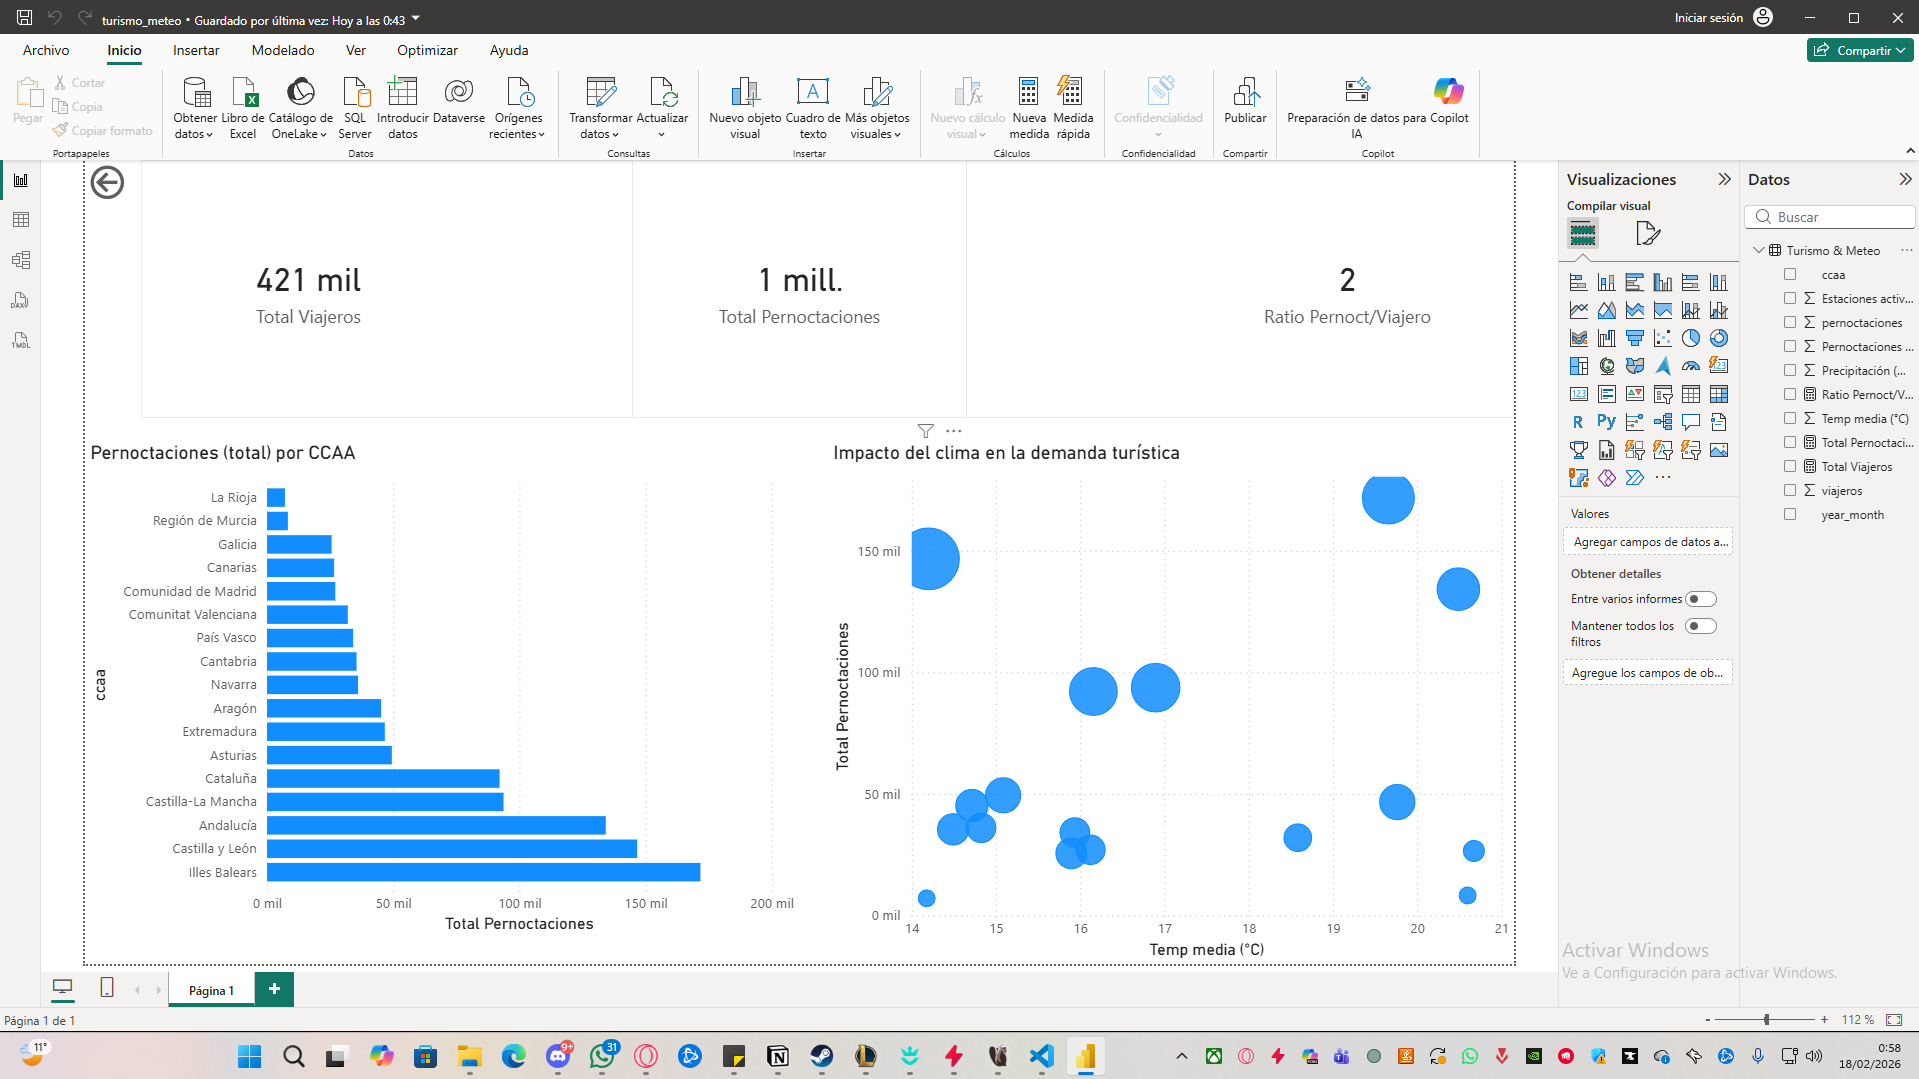

The dashboard page shown, as its layout file describes it:
{"tool":"powerbi","page":{"name":"Página 1","canvas":[1280,720],"ordinal":0},"visuals":[{"type":"card","fields":{"Values":["Turismo & Meteo.Total Viajeros"]},"box":[50,0,300,231],"z":0,"group":"g1"},{"type":"scatterChart","title":"Impacto del clima en la demanda turística","fields":{"Y":["turismo_meteo_ccaa_mes.Total Pernoctaciones"],"X":["turismo_meteo_ccaa_mes.tmed_avg_month"],"Size":["turismo_meteo_ccaa_mes.Total Viajeros"]},"box":[665,252,615,468],"z":0},{"type":"actionButton","box":[0,0,100,40],"z":1000},{"type":"card","fields":{"Values":["Turismo & Meteo.Total Pernoctaciones"]},"box":[490,0,300,231],"z":1000,"group":"g1"},{"type":"group","id":"g1","title":"Grupo 1","box":[50,0,1230,231],"z":2000},{"type":"card","fields":{"Values":["Turismo & Meteo.Ratio Pernoct/Viajero"]},"box":[980,0,300,231],"z":2000,"group":"g1"},{"type":"clusteredBarChart","title":"Pernoctaciones (total) por CCAA","fields":{"Category":["Turismo & Meteo.ccaa"],"Y":["Turismo & Meteo.Total Pernoctaciones"]},"box":[0,252,640,445],"z":2001}]}

Visuals, with their boxes on the page's 1280x720 design canvas (x1, y1, x2, y2). These are canvas units, not pixel positions in the 1919x1079 screenshot, which may show the page scaled, cropped or inside an application window:
card - Turismo & Meteo.Total Viajeros: 50/0/350/231
"Impacto del clima en la demanda turística" scatterChart: 665/252/1280/720
actionButton: 0/0/100/40
card - Turismo & Meteo.Total Pernoctaciones: 490/0/790/231
"Grupo 1" group: 50/0/1280/231
card - Turismo & Meteo.Ratio Pernoct/Viajero: 980/0/1280/231
"Pernoctaciones (total) por CCAA" clusteredBarChart: 0/252/640/697
